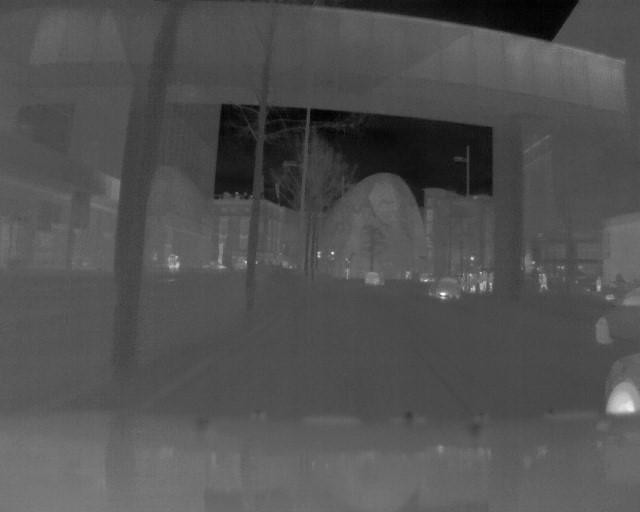car: (428, 275, 461, 302), (364, 270, 387, 285)
person: (467, 271, 476, 293), (539, 271, 547, 293), (477, 270, 484, 291)
